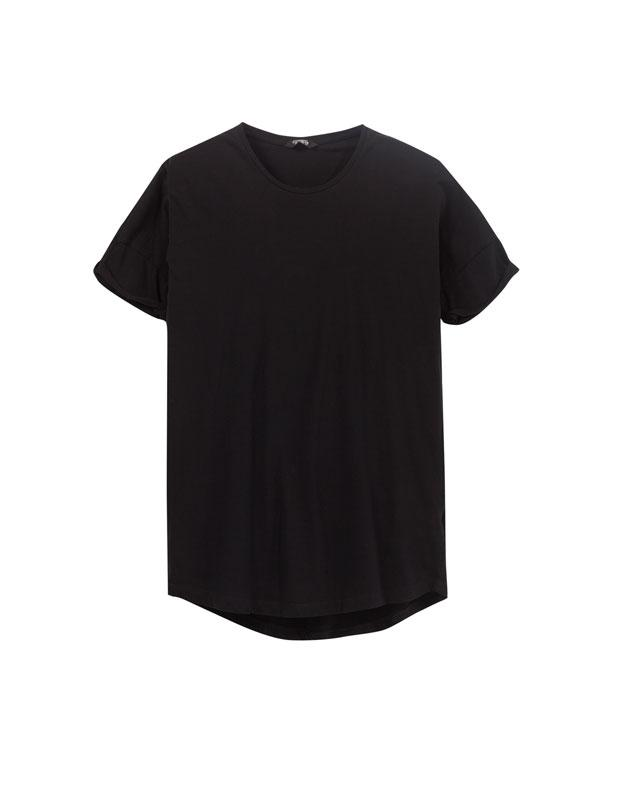teeshirt: (87, 107, 539, 668)
